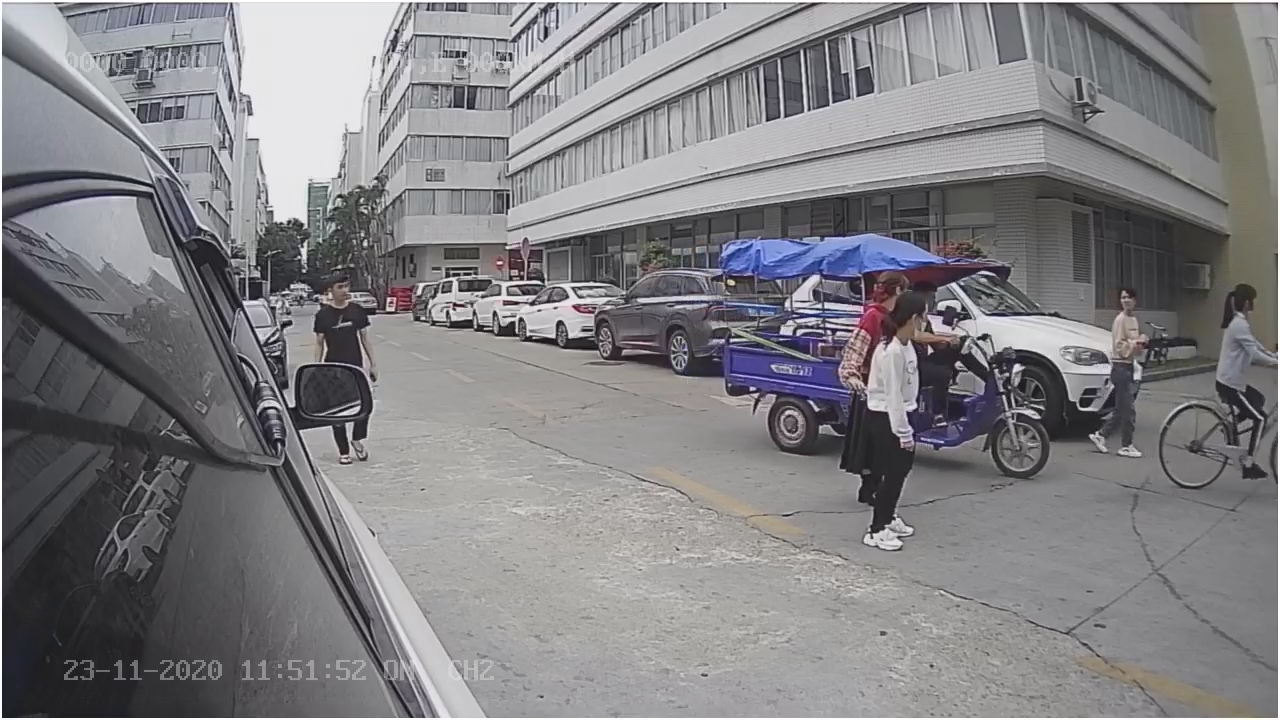person: (857, 290, 934, 550), (1084, 284, 1149, 462)
